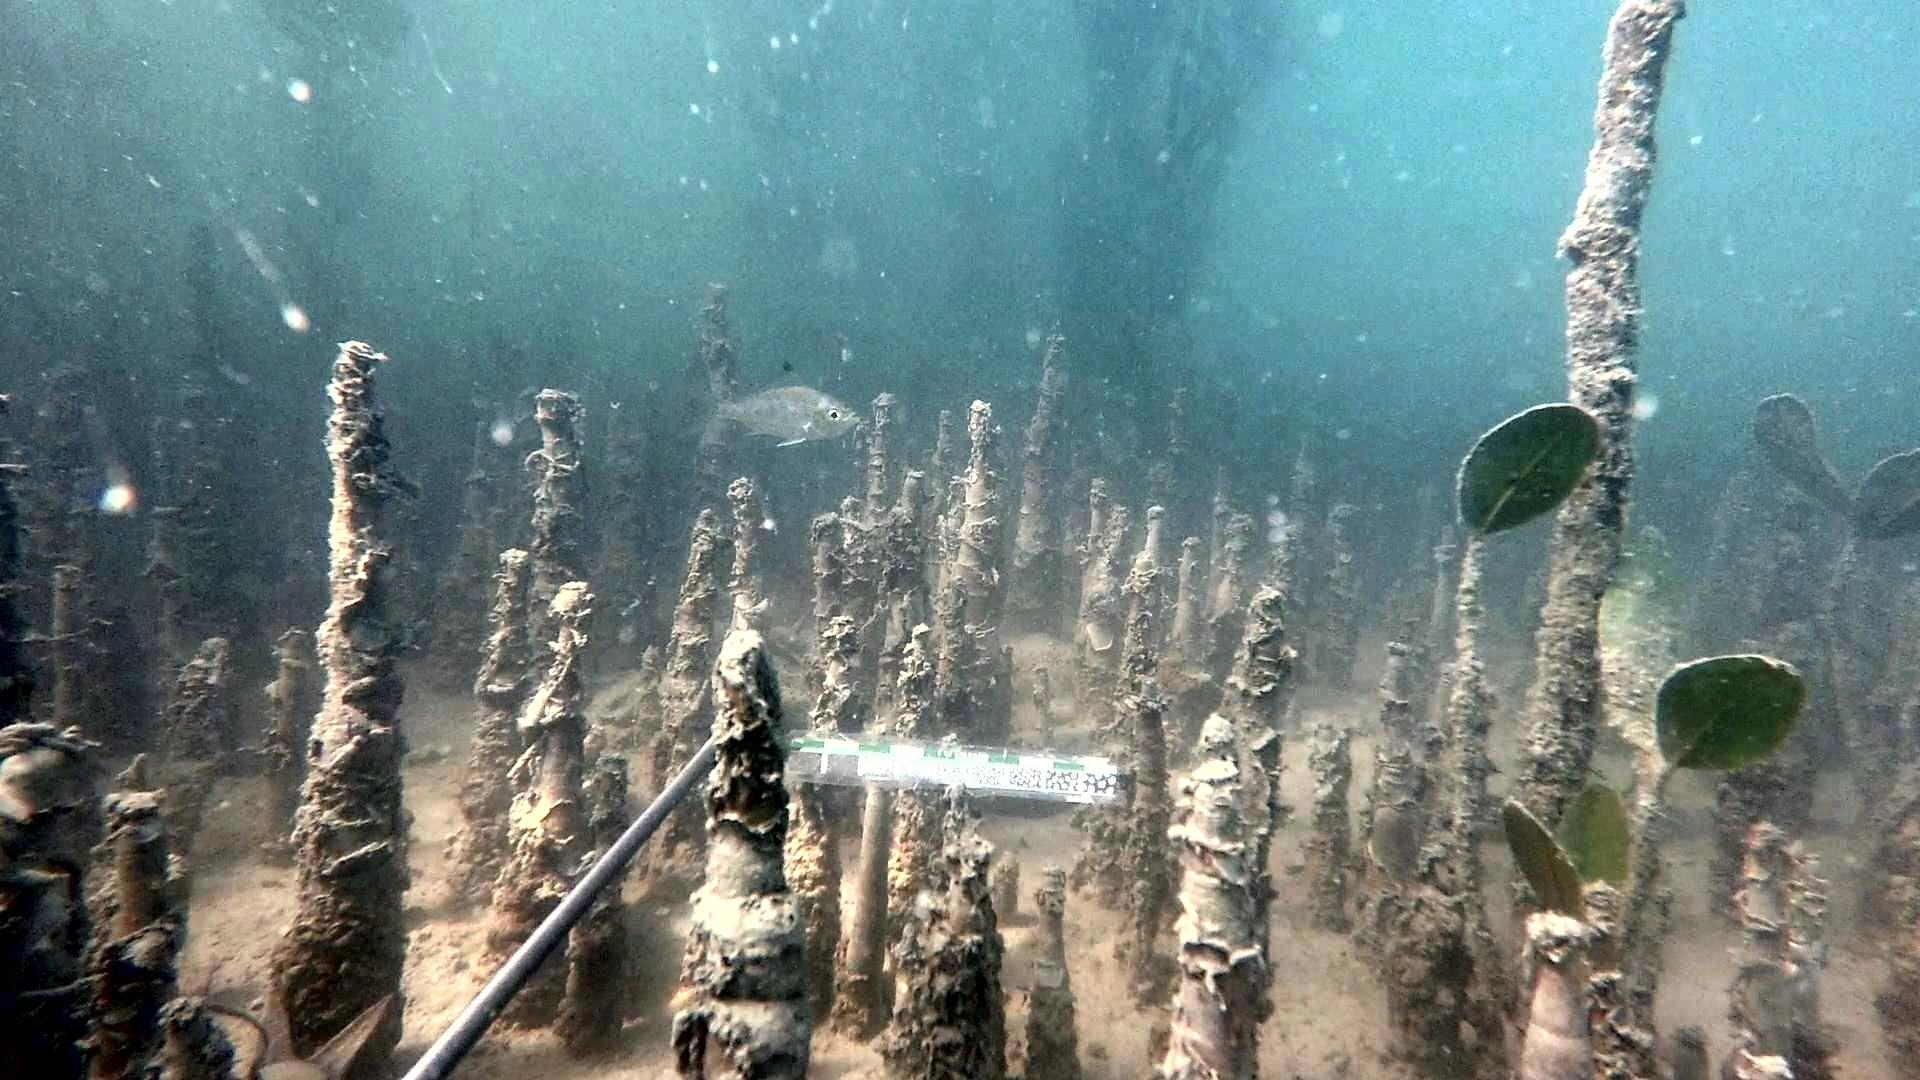gerres: (674, 357, 862, 448)
